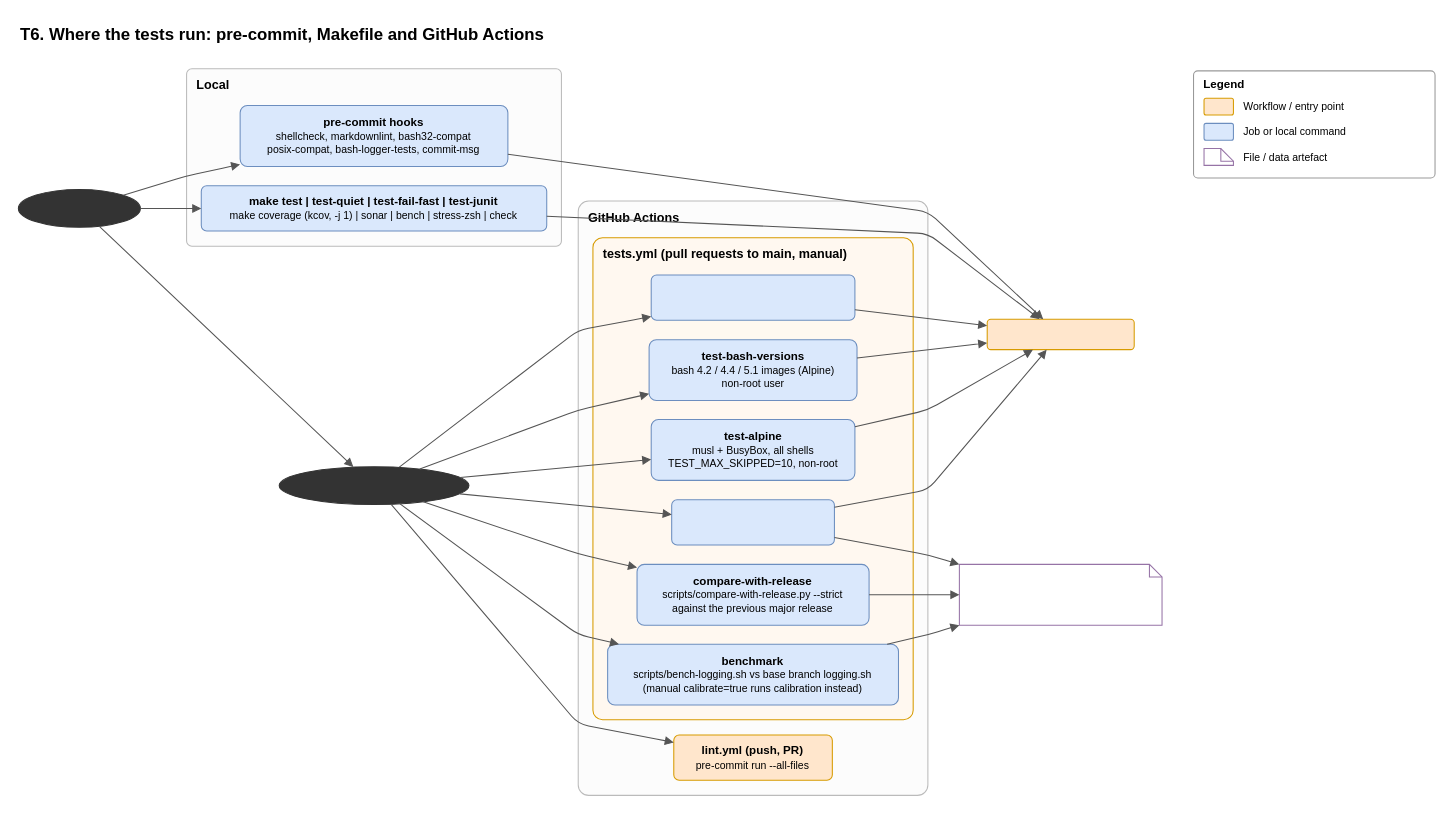
This 1454x814 diagram has some shape labels left out. Here are the shapes that lost their labels. From the top down, the centre of each, then its label:
[78,207]: Developer
[752,297]: test-macos-bash32 Apple /bin/bash 3.2 via PATH shim
[1060,334]: tests/run_tests.sh
[373,485]: push / pull request
[752,522]: test — ubuntu-latest all 5 shells required, -j 4
[1060,594]: Artefacts test-results, compare-results.json bench-results.txt
